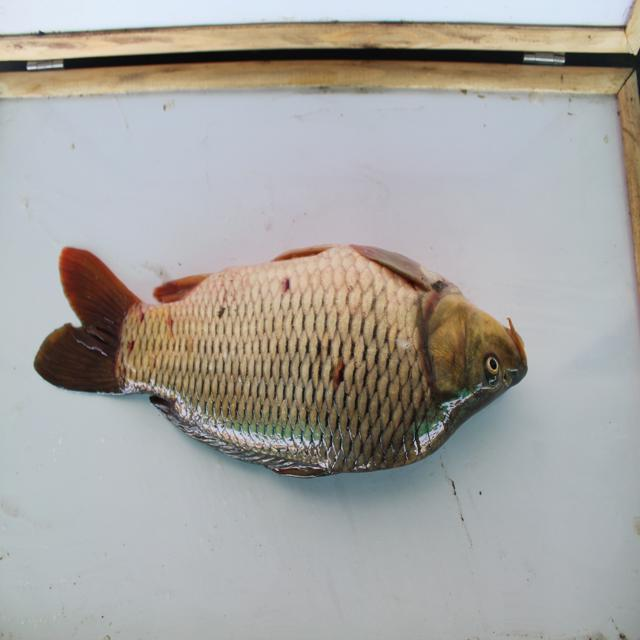CommonCarp: (33, 218, 554, 486)
